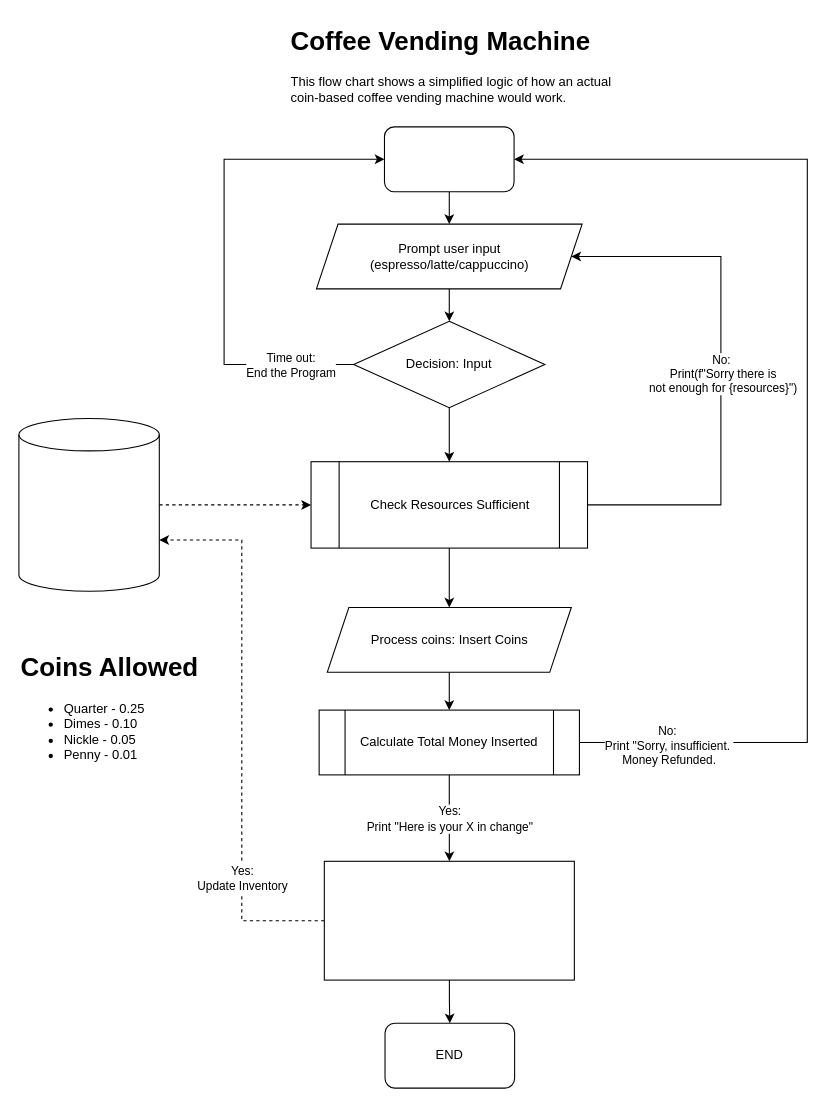
Some shapes in this 835 by 1107 pixel diagram are drawn without their labels. The centre of each missing label's shape, as x and y in pixels:
Make Coffee Deduct resource Add money to total serve drink: point (448, 920)
Menu (Cost, Ingredient) Resource Inventory: point (88, 504)
Start: point (448, 159)
